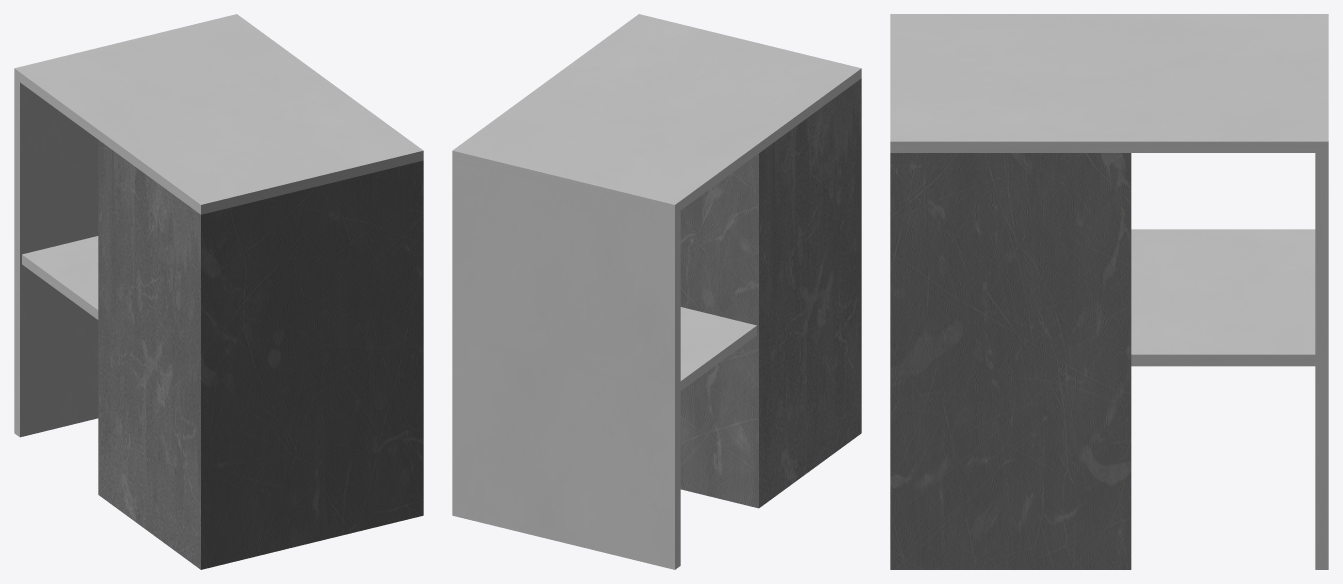
File: Mesa_Stand3.obj
3 views of the same model, side by side, from view 1: azimuth 30°, elevation 25°; view 2: azimuth 150°, elevation 25°; view 3: azimuth 270°, elevation 25° (orthographic). The views are drawn at different scales.
Visible parts, largest first — view 1: Mesa_Stand3; view 2: Mesa_Stand3; view 3: Mesa_Stand3.
Boxes of the visible parts, left/top/right/bottom form: Mesa_Stand3: left=14, top=14, right=423, bottom=569; Mesa_Stand3: left=452, top=14, right=861, bottom=569; Mesa_Stand3: left=890, top=14, right=1328, bottom=569.
Bounding box in the file's own units: 1.01 × 1.59 × 1.47.
2 materials, 2 textured.
